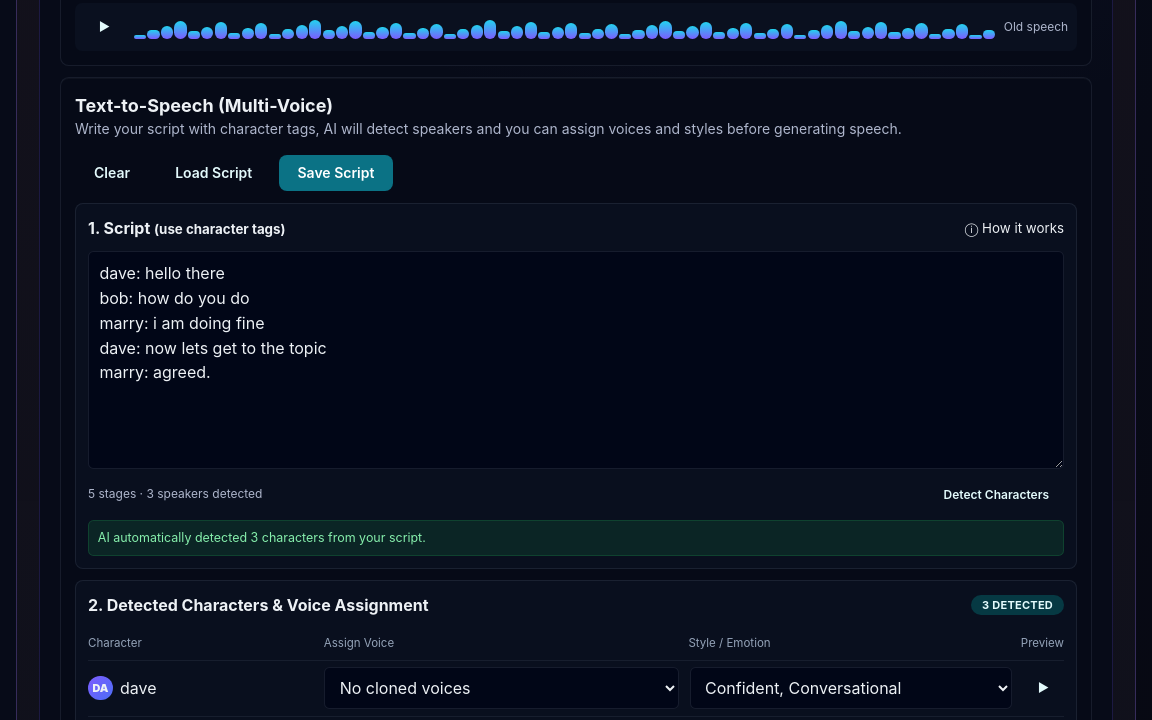
Test: VoiceWorkspace › plays the completed speech when the job list still has a queued summary
(page scrolled)
Replace the text in the text box named "Script" with "Dave: New line." at (576, 360), box [88,251,1064,469]
(page scrolled)
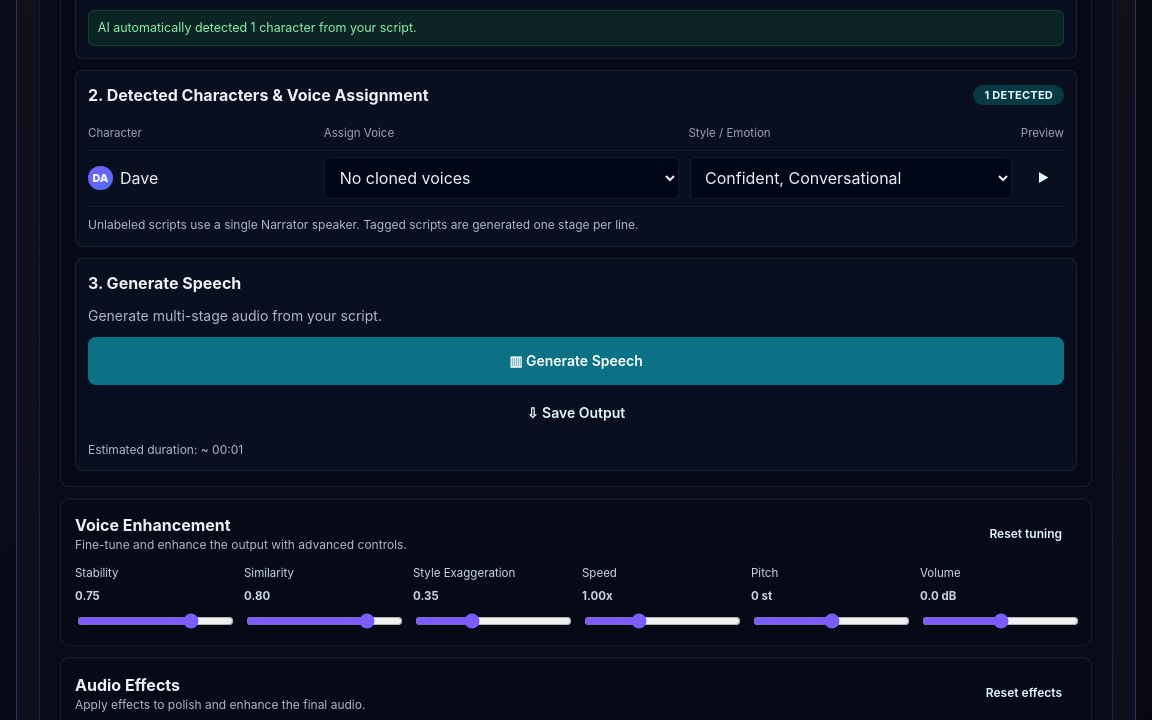
Click the button "▥ Generate Speech".
click(576, 361)  # box [88,337,1064,385]
(page scrolled)
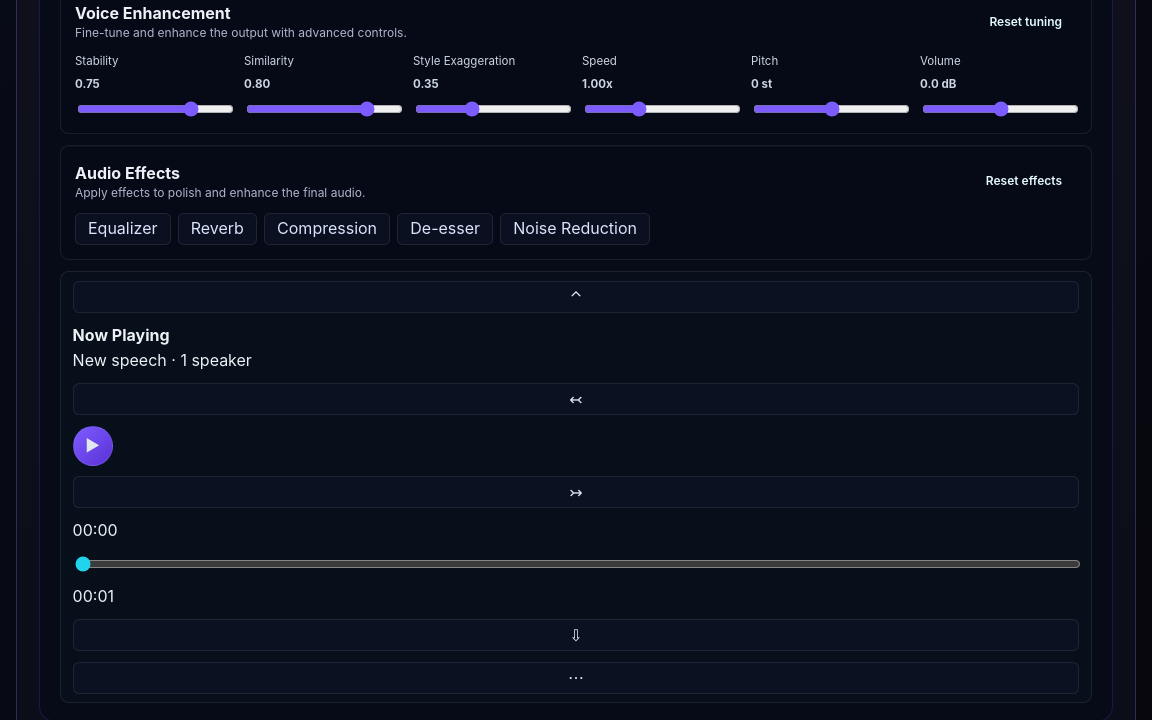
Now the text "New speech · 1 speaker" is shown, box [73,350,252,370]
